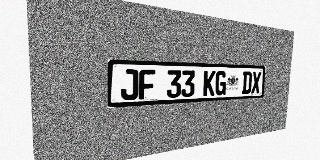3: (167, 70, 182, 98), (181, 70, 195, 97)
D: (242, 71, 252, 94)
F: (139, 69, 155, 100)
G: (215, 71, 227, 95)
J: (121, 69, 138, 101)
K: (203, 71, 216, 96)
X: (251, 72, 261, 94)
